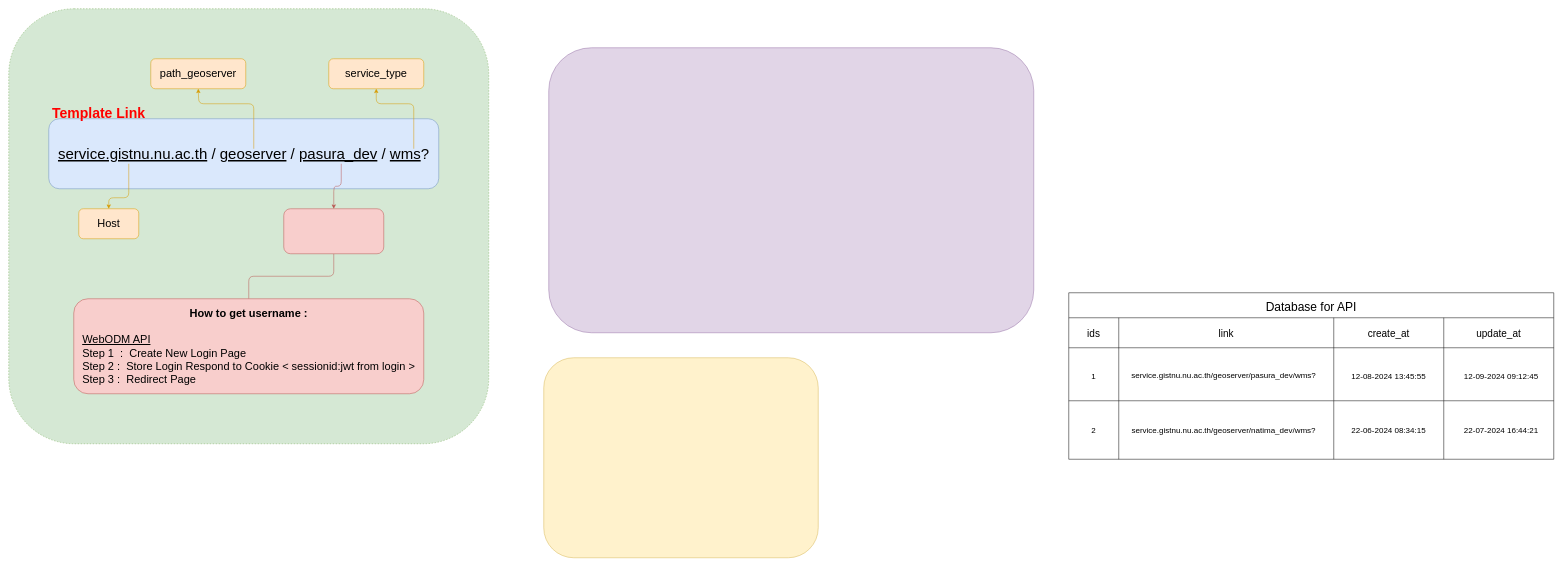
Image size: 1563x567. Some labels were removed from this diagram. The shapes that lost their labels are listed below. From the top down, each one's box as (x1, y1, x2, y2) in pixels, then its label:
(548, 47, 1034, 333): Database
(283, 208, 384, 254): username from WebODM
(543, 357, 818, 558): leaflet
